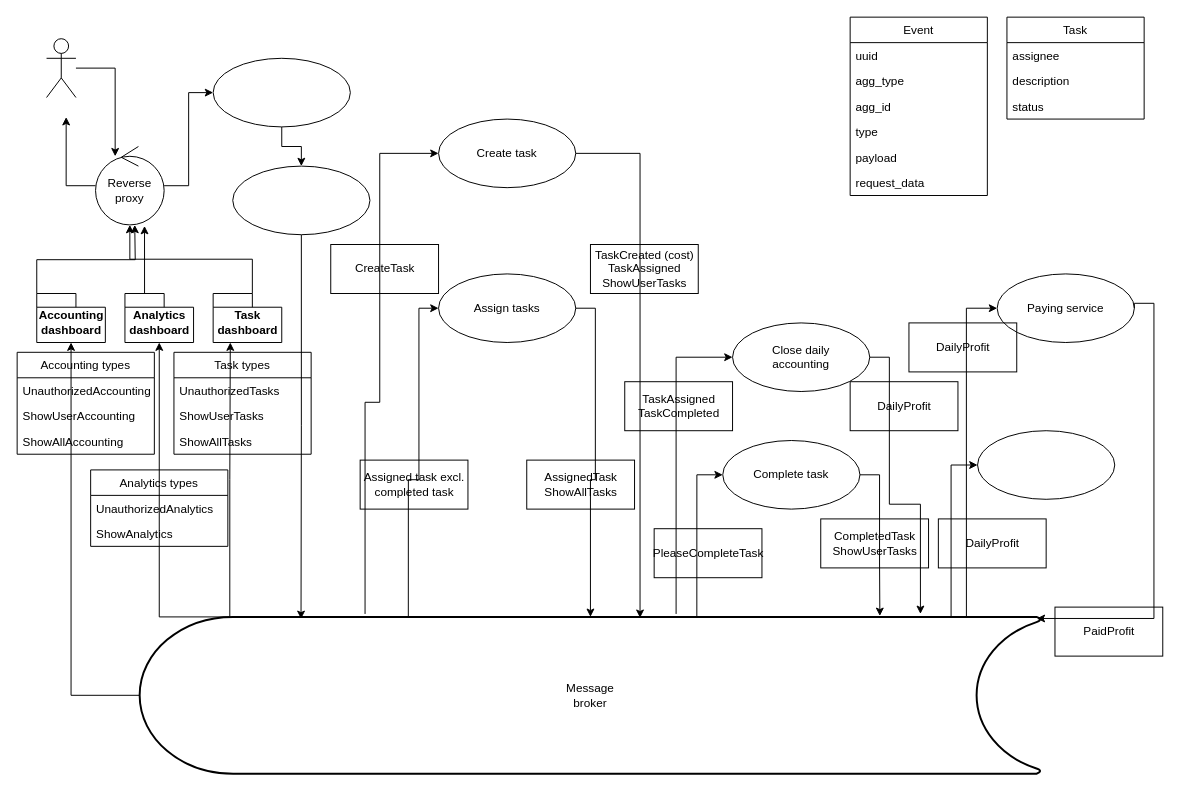
This 1180x792 diagram has some shape labels left out. Each missing label, with the centre of its shape:
"Actor" goes at [61,68].
"Authentication service" goes at [281,92].
"Authorization service" goes at [301,200].
"Email service" goes at [1046,464].
